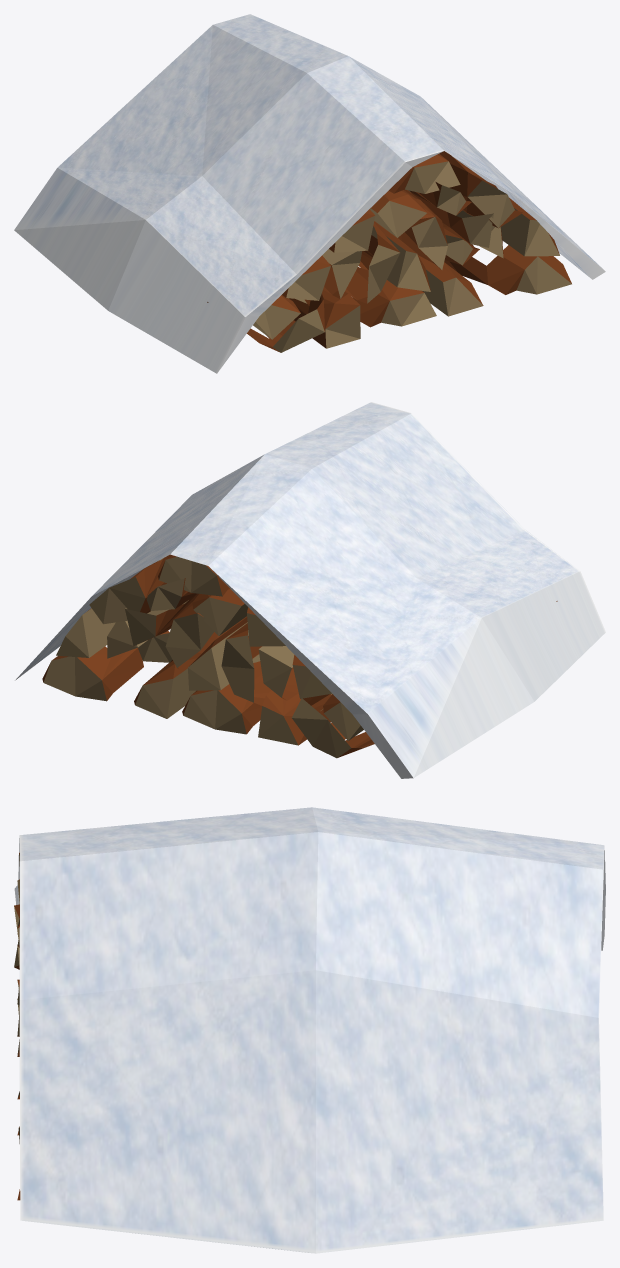
The model's file is Holzhaufen.glb.
The picture shows the model from 3 angles, top to bottom: view 1: azimuth 30°, elevation 25°; view 2: azimuth 150°, elevation 25°; view 3: azimuth 270°, elevation 25°; orthographic projection. The views are drawn at different scales.
Parts seen in each view (by area): view 1: Liegender Baum; view 2: Liegender Baum; view 3: Liegender Baum.
Boxes of the visible parts, bbox=[...] form: Liegender Baum: bbox=[14, 14, 605, 373]; Liegender Baum: bbox=[15, 402, 605, 778]; Liegender Baum: bbox=[14, 807, 605, 1253].
Size of the model in its own units: 3.54 by 1.58 by 2.82.
Materials: 3 (1 with a texture image).
